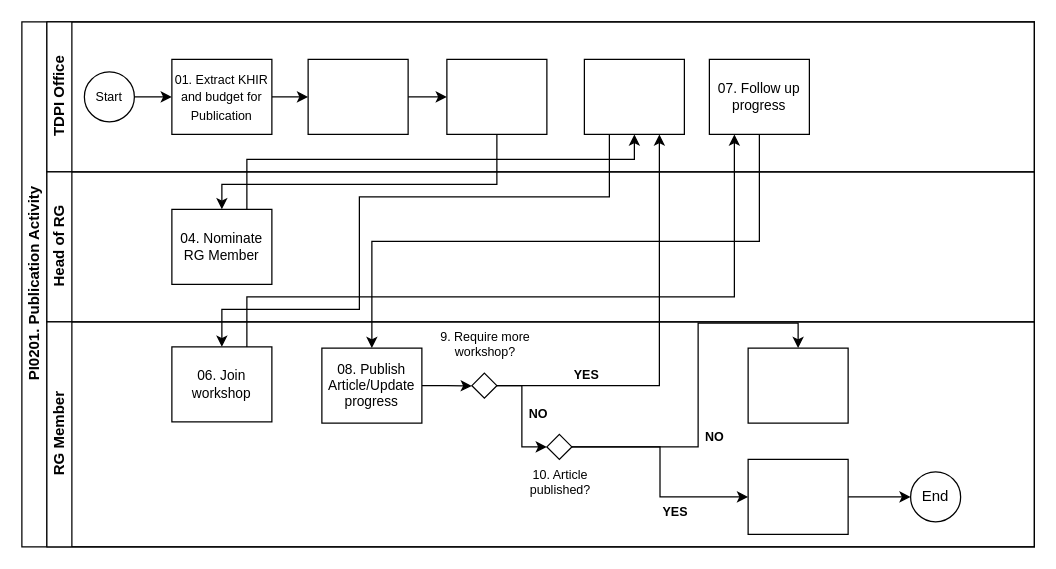
This 1056x569 diagram has some shape labels left out. The box of each missing label's shape, as (x1, y1, x2, y2) in pixels:
02. Create worskhop calendar: (307, 58, 408, 134)
03. Announce workshop event: (446, 58, 547, 134)
05. Organize workshop: (583, 58, 684, 134)
11. Update Progress Submission: (747, 347, 848, 423)
12. Update publication in RADIS: (747, 458, 848, 534)
